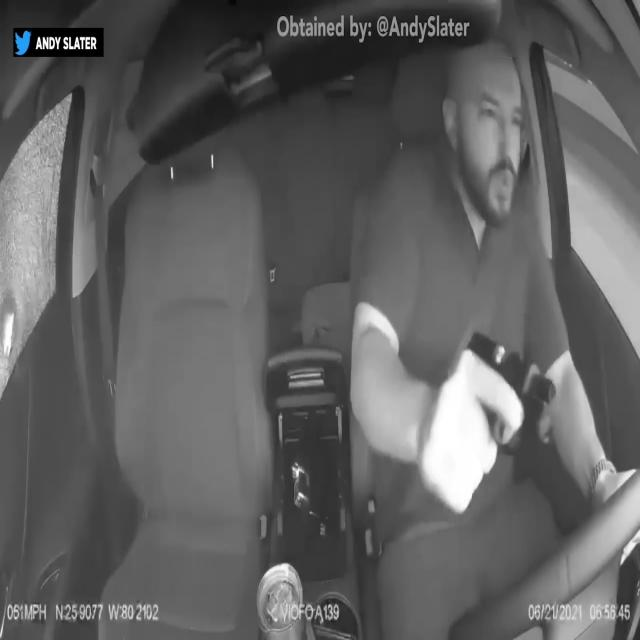senjata_api: (465, 326, 557, 448)
